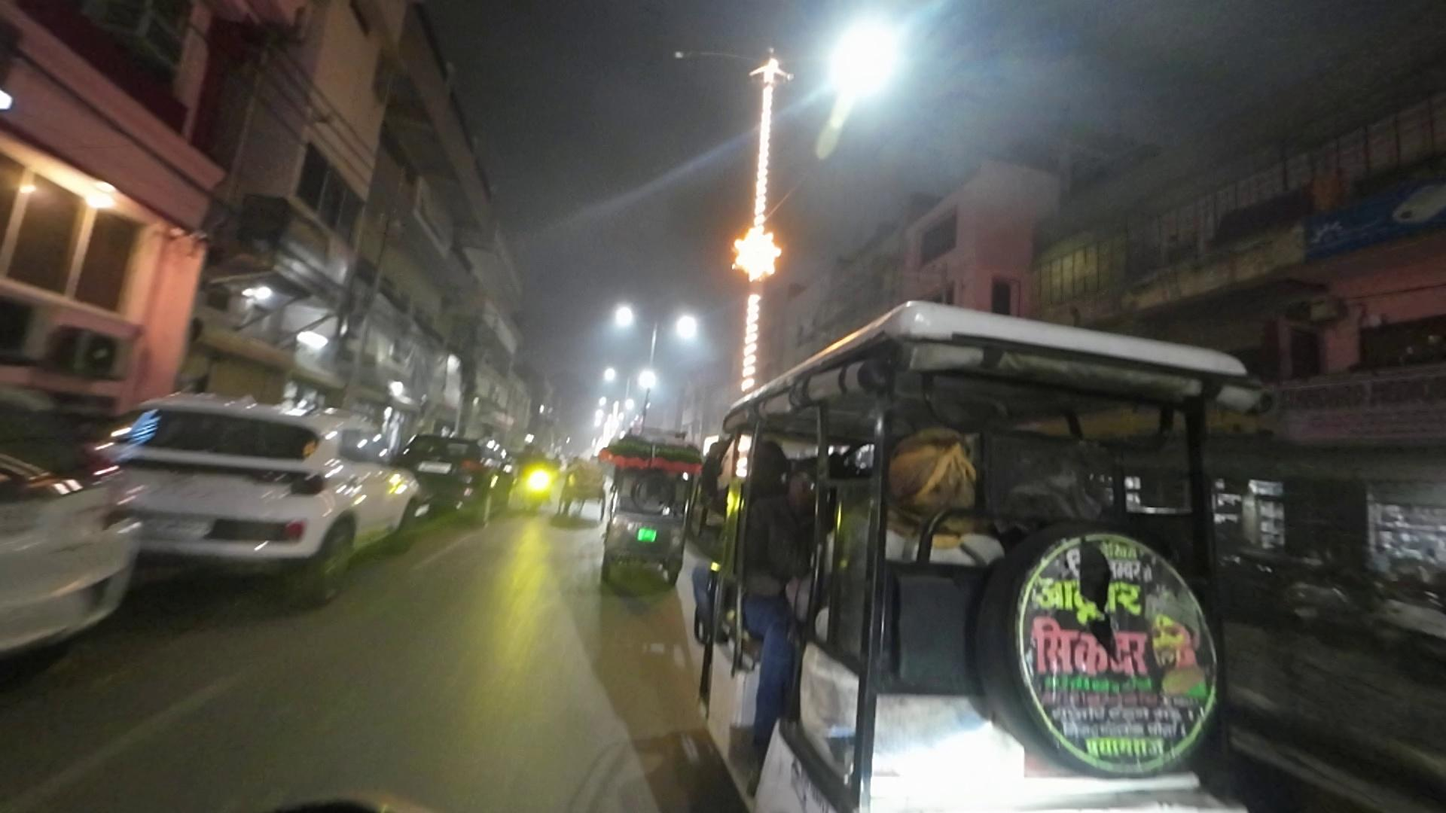streetlight: (664, 46, 752, 69)
